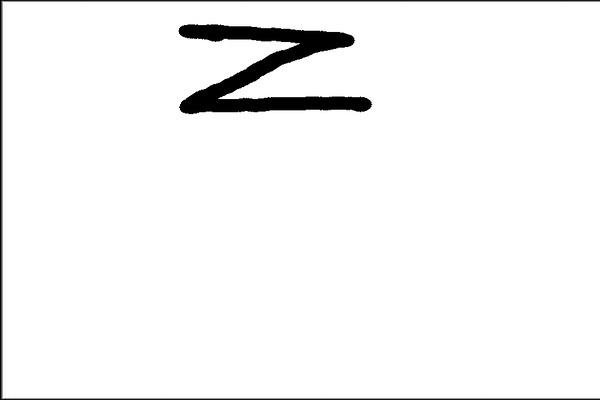Z: (171, 14, 385, 124)
